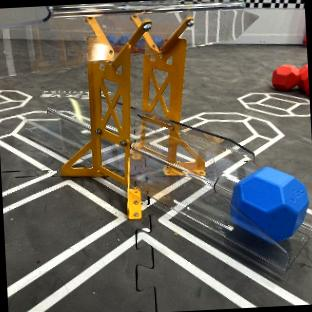V5_BLUE: (230, 166, 308, 241), (152, 35, 162, 46)
V5_RED: (272, 64, 308, 94)
